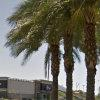Palm tree: (17, 1, 99, 90)
